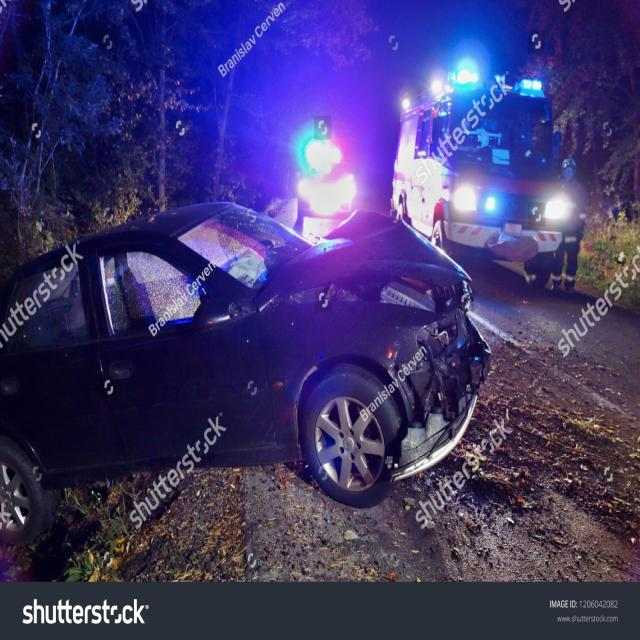Accident: (3, 180, 493, 530)
